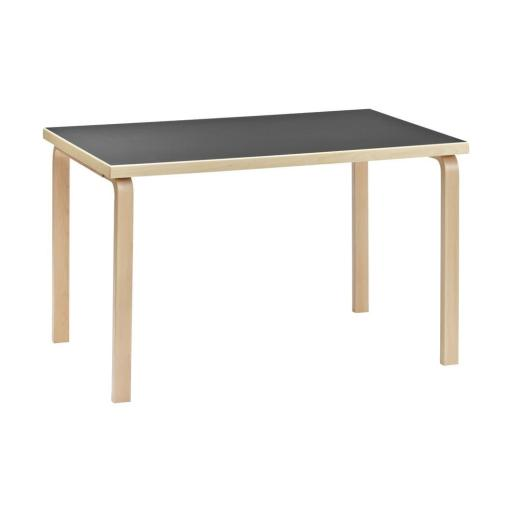table: (39, 109, 472, 387)
